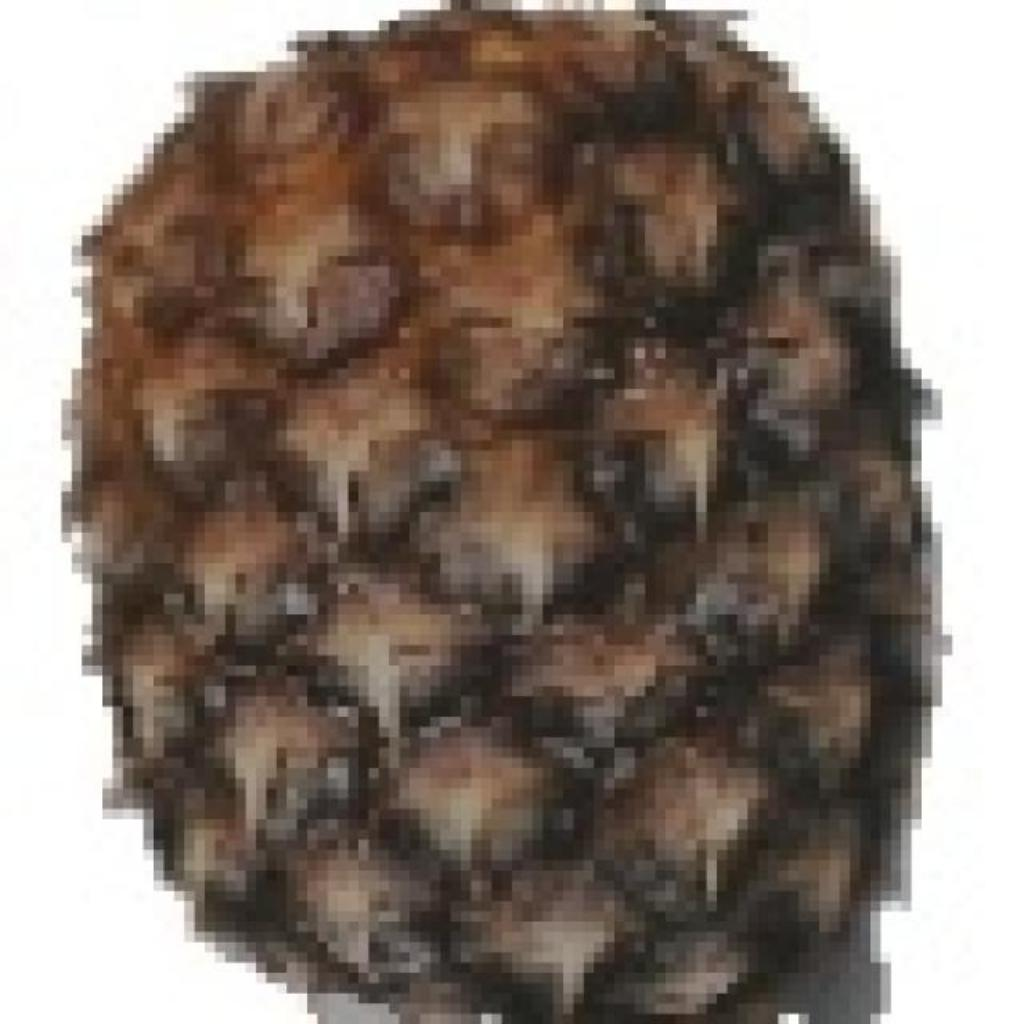pineapple: (70, 0, 932, 1024)
